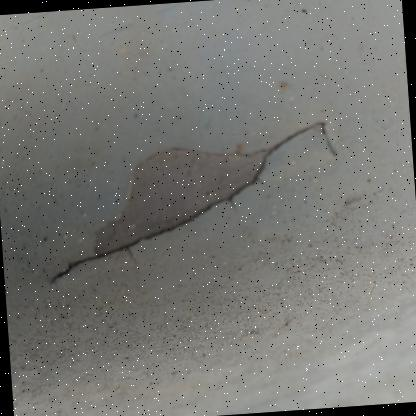Crack: (8, 81, 371, 303)
